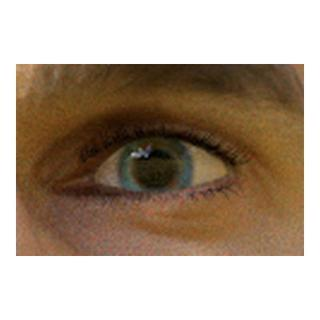pupil: (137, 150, 174, 187)
